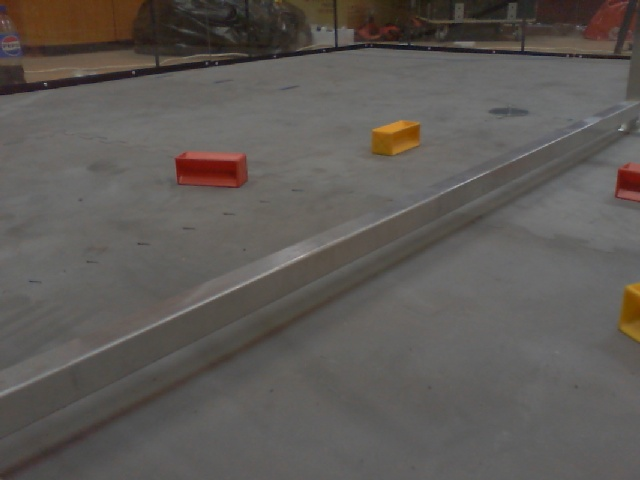RedSample: (174, 149, 249, 189), (613, 159, 640, 204)
YellowSample: (369, 118, 424, 156), (615, 280, 640, 344)
